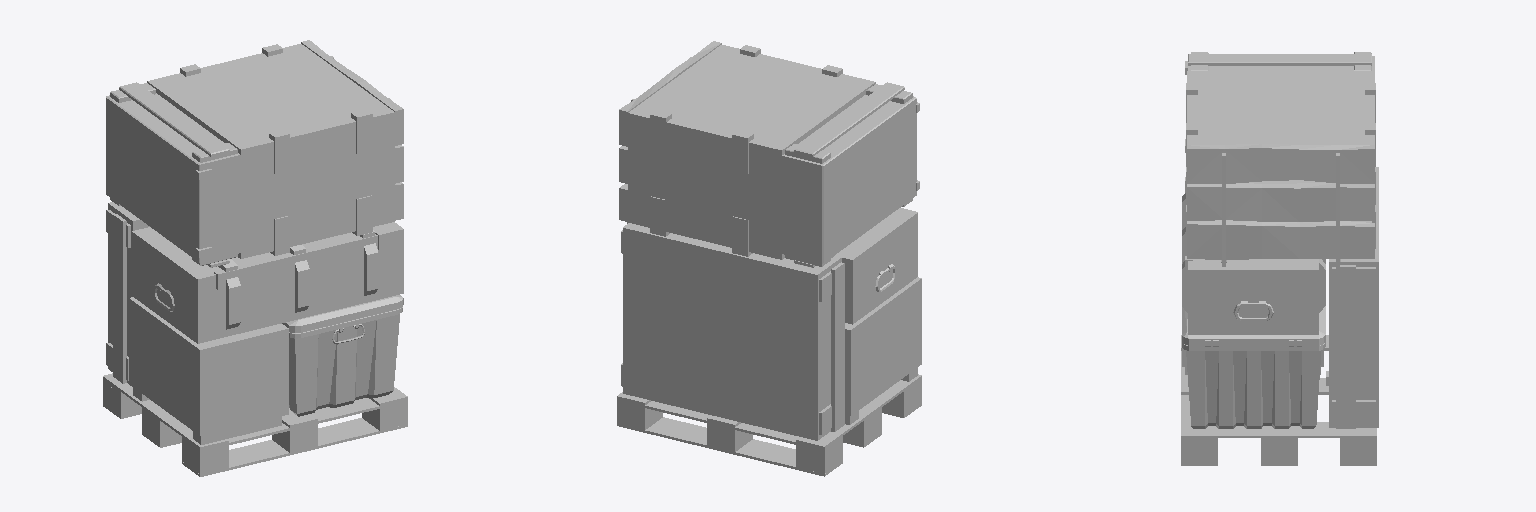
The model's file is supplies.obj.
The picture shows the model from 3 angles: view 1: azimuth 30°, elevation 25°; view 2: azimuth 150°, elevation 25°; view 3: azimuth 270°, elevation 25°; orthographic projection.
Parts seen in each view (by area): view 1: studio_crateshell_ref_mesh_02; view 2: studio_crateshell_ref_mesh_02; view 3: studio_crateshell_ref_mesh_02.
Part boxes in pixels (bbox=[...]): studio_crateshell_ref_mesh_02: bbox=[103, 40, 407, 476]; studio_crateshell_ref_mesh_02: bbox=[617, 41, 921, 476]; studio_crateshell_ref_mesh_02: bbox=[1181, 52, 1378, 465].
Size of the model in its own units: 29.42 by 42.21 by 23.64.